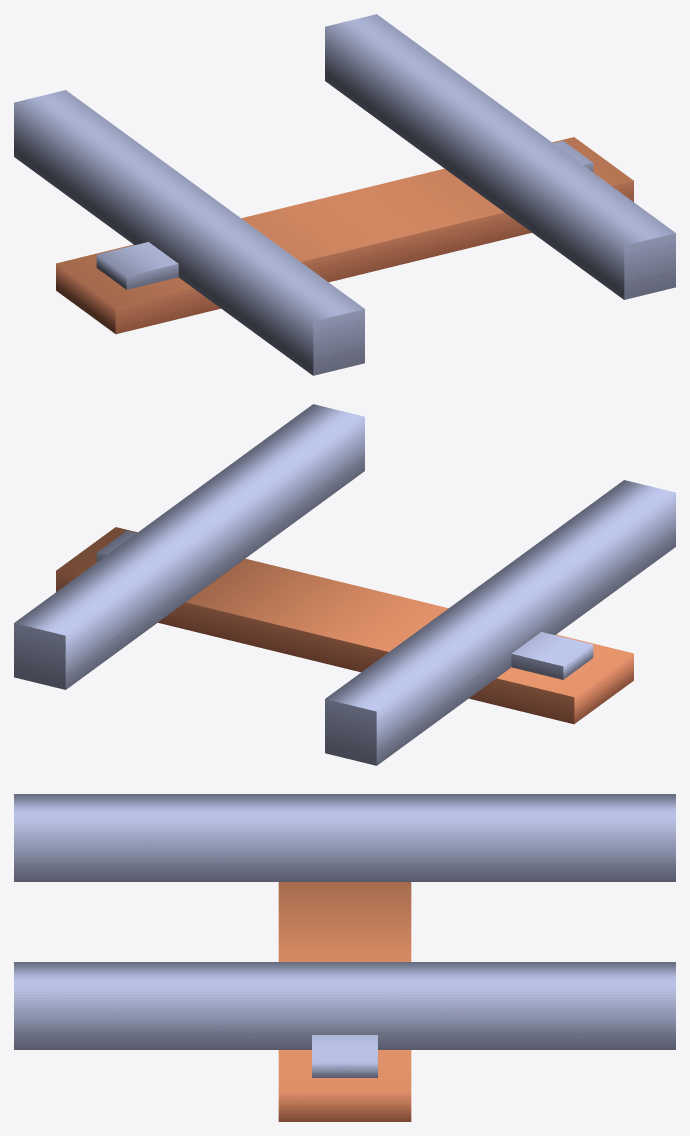
Rendered from track-single-detailed.glb.
3 renders of one model, top to bottom at view 1: azimuth 30°, elevation 25°; view 2: azimuth 150°, elevation 25°; view 3: azimuth 270°, elevation 25°, orthographic. The views are drawn at different scales.
Visible parts, largest first — view 1: track-single-detailed; view 2: track-single-detailed; view 3: track-single-detailed.
Boxes of the visible parts, left/top/right/bottom form: track-single-detailed: left=14, top=14, right=675, bottom=375; track-single-detailed: left=14, top=404, right=675, bottom=765; track-single-detailed: left=14, top=794, right=675, bottom=1121.
Size of the model in its own units: 1 by 0.15 by 1.
1 material, 1 textured.
